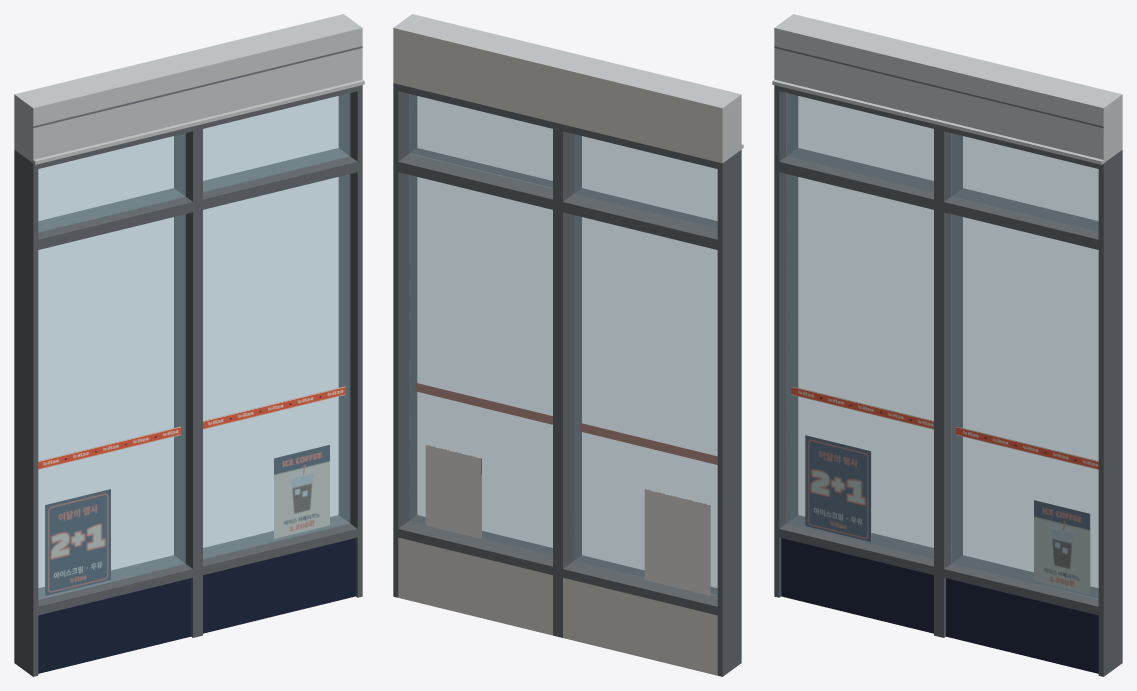
Rendered from SC_Bld_Store_Front_Glass_2m.gltf.
3 renders of one model, left to right at view 1: azimuth 30°, elevation 25°; view 2: azimuth 150°, elevation 25°; view 3: azimuth 330°, elevation 25°, orthographic.
Parts seen in each view (by area): view 1: SC_Bld_Store_Front_Glass_2m; view 2: SC_Bld_Store_Front_Glass_2m; view 3: SC_Bld_Store_Front_Glass_2m.
Boxes of the visible parts, left/top/right/bottom form: SC_Bld_Store_Front_Glass_2m: left=14, top=14, right=364, bottom=676; SC_Bld_Store_Front_Glass_2m: left=393, top=14, right=743, bottom=676; SC_Bld_Store_Front_Glass_2m: left=772, top=14, right=1122, bottom=676.
Size of the model in its own units: 2 by 3.3 by 0.222.
Materials: 3 (3 with a texture image).
